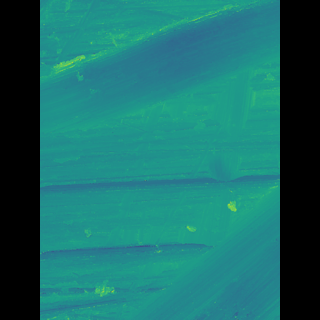Loch: (70, 0, 249, 136), (137, 184, 250, 319)
